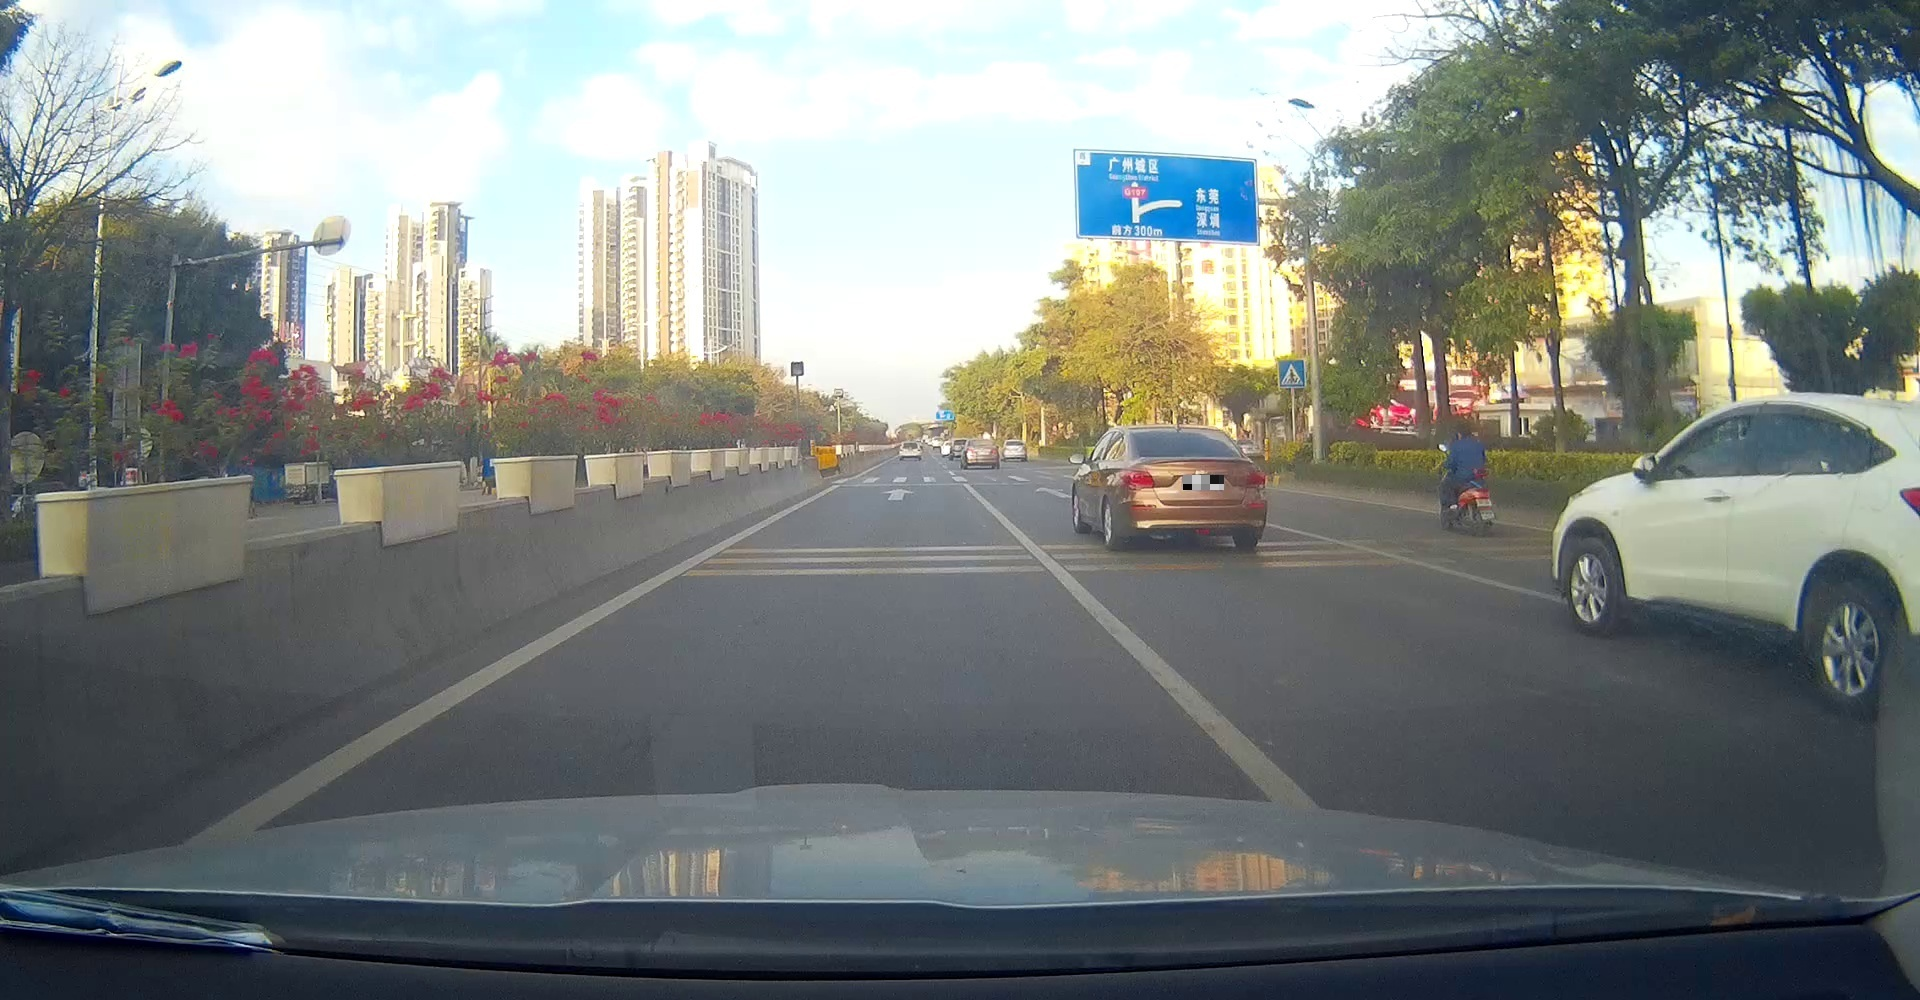L_light: (1120, 470, 1154, 489), (966, 448, 975, 454)
R_light: (1244, 470, 1266, 486), (990, 449, 999, 454)
T_light: (1176, 428, 1189, 433), (980, 440, 985, 442)
day-no: (1117, 424, 1267, 551), (965, 439, 999, 470)
plate_1: (1183, 475, 1224, 490)
